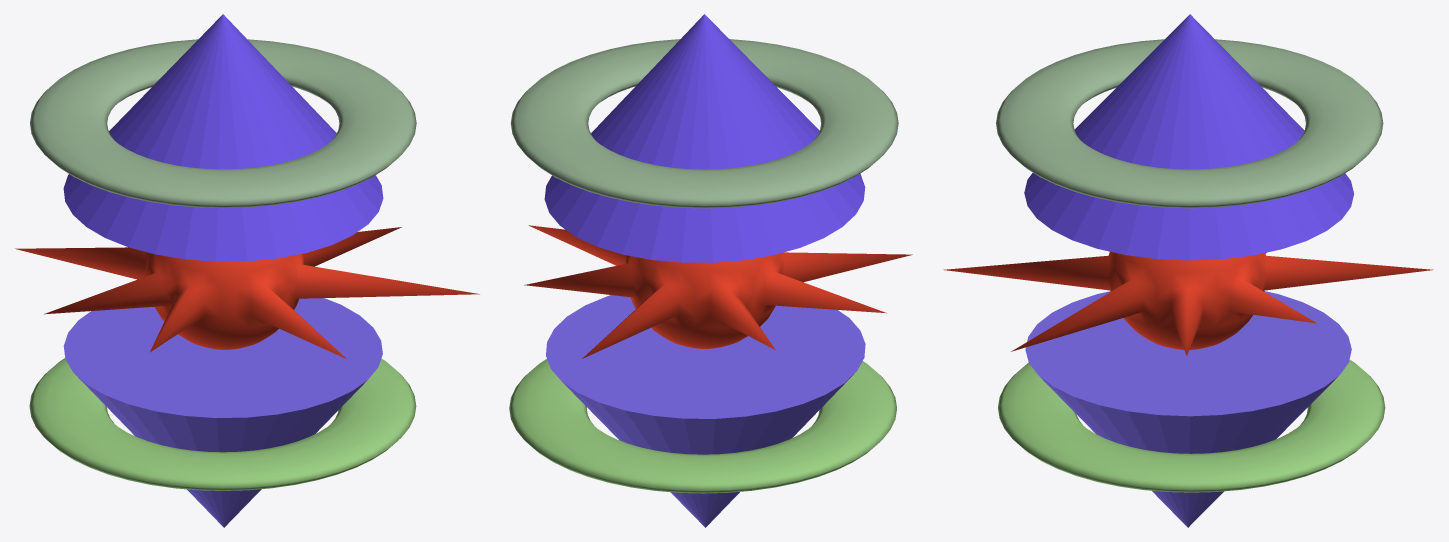
The picture shows the model from 3 angles, left to right: view 1: azimuth 30°, elevation 25°; view 2: azimuth 150°, elevation 25°; view 3: azimuth 270°, elevation 25°; orthographic projection.
Parts seen in each view (by area): view 1: Cone, Cone.001, Torus.003, Torus.000, Sphere; view 2: Cone, Cone.001, Torus.003, Torus.000, Sphere; view 3: Cone, Cone.001, Torus.003, Torus.000, Sphere.
Part boxes in pixels (<box>): Cone: <box>63,14,383,261</box>; Cone.001: <box>63,298,382,527</box>; Torus.003: <box>30,39,416,208</box>; Torus.000: <box>29,358,416,490</box>; Sphere: <box>15,227,479,358</box>; Cone: <box>544,14,865,262</box>; Cone.001: <box>546,295,865,527</box>; Torus.003: <box>510,39,898,208</box>; Torus.000: <box>509,359,896,493</box>; Sphere: <box>524,225,912,358</box>; Cone: <box>1024,14,1353,260</box>; Cone.001: <box>1025,291,1351,527</box>; Torus.003: <box>996,39,1383,208</box>; Torus.000: <box>998,360,1385,492</box>; Sphere: <box>943,251,1433,356</box>.
Size of the model in its own units: 9.86 by 13.48 by 11.7.
